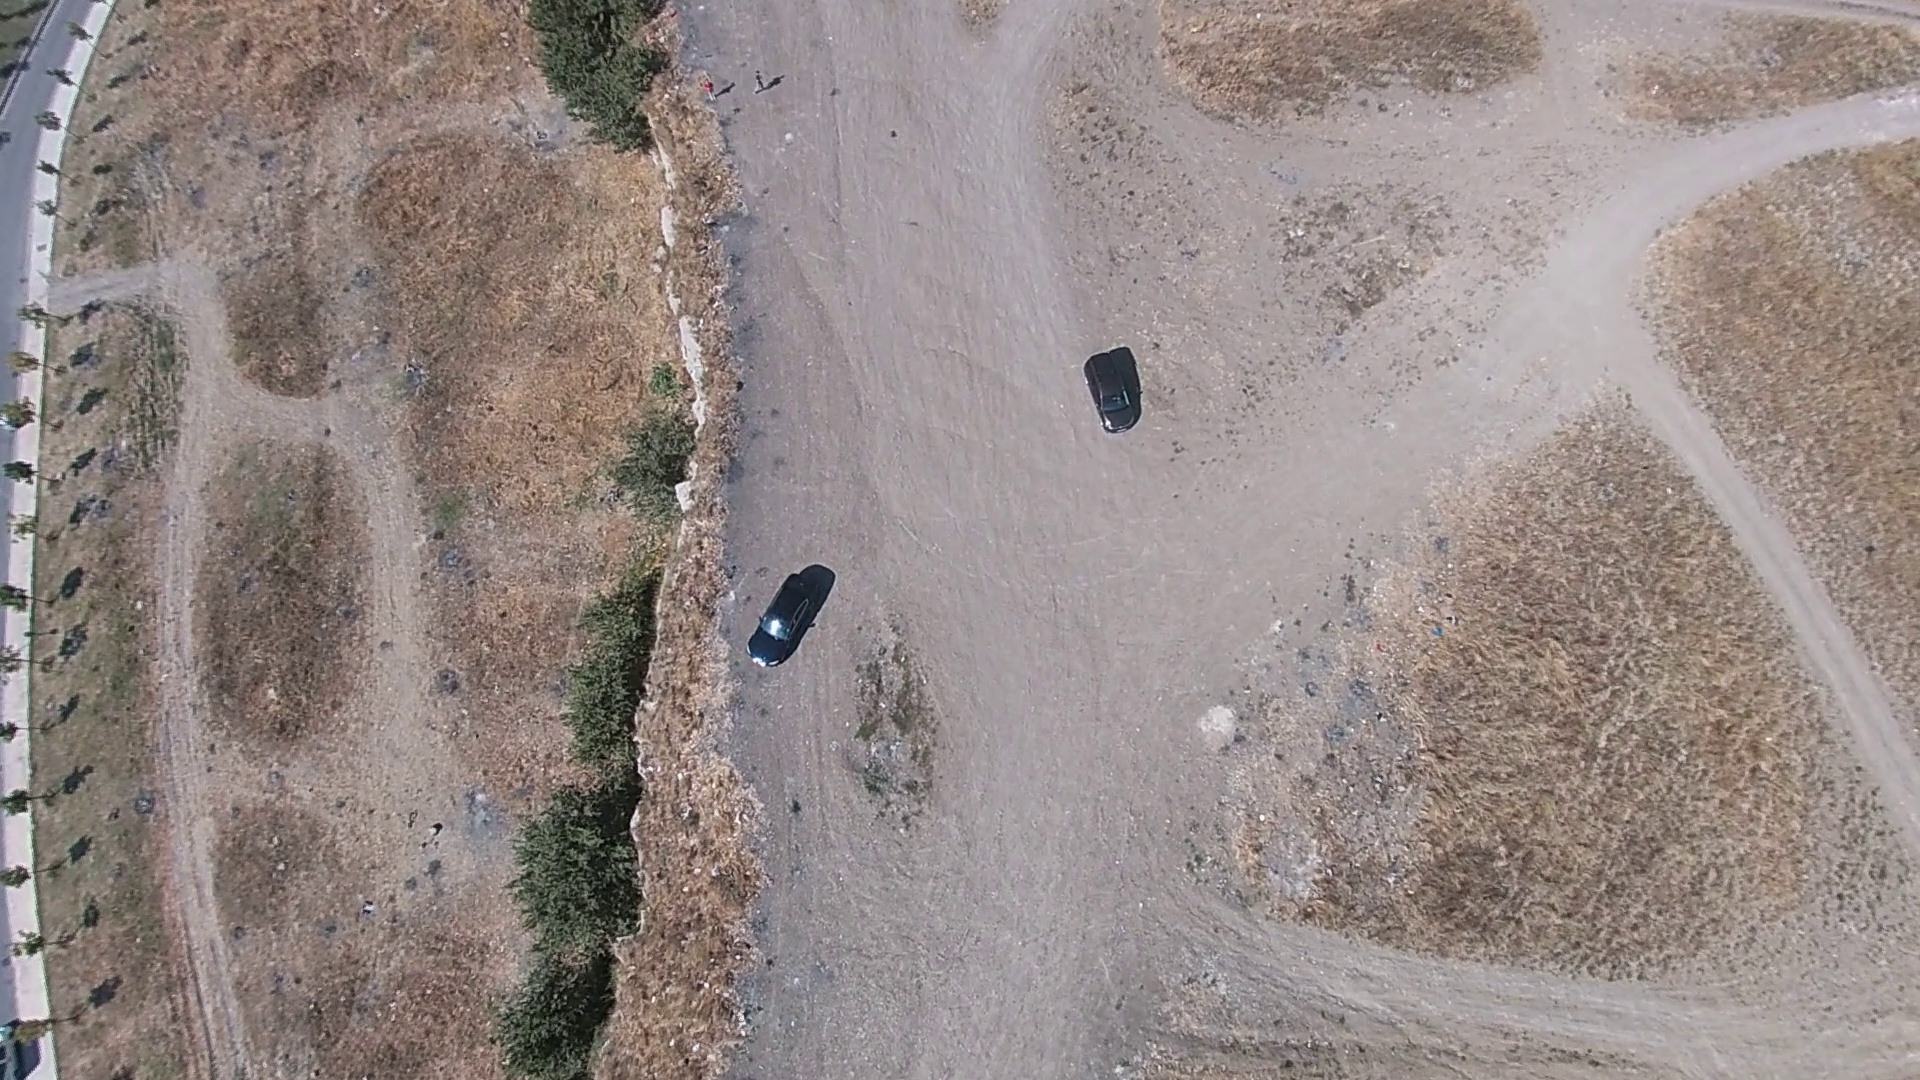araba: (741, 561, 830, 673), (1080, 340, 1139, 430)
insan: (697, 77, 722, 103), (749, 67, 770, 96)
